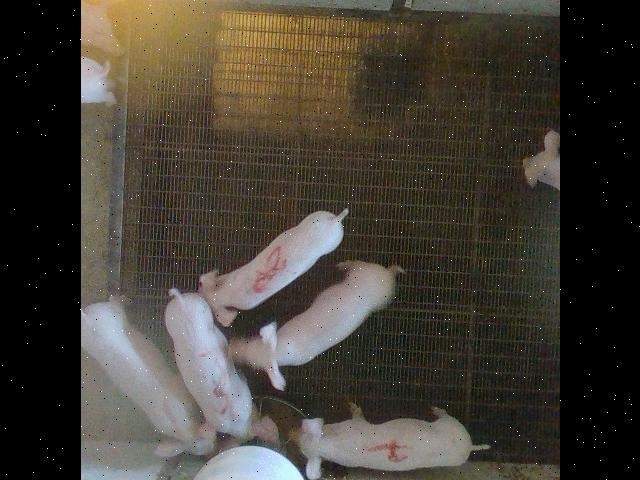pig-3: (164, 289, 277, 451)
pig-4: (290, 409, 489, 479)
pig-5: (198, 209, 348, 326)
